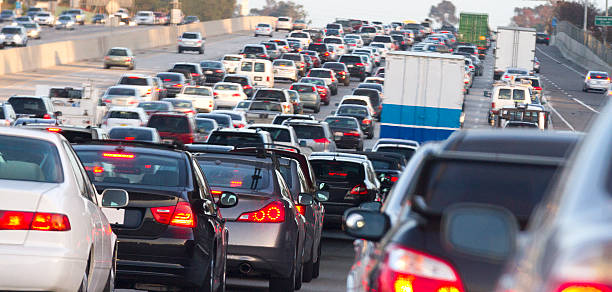car: (1, 125, 115, 292), (84, 149, 219, 283), (195, 153, 299, 284), (308, 158, 377, 230), (284, 118, 336, 160), (10, 94, 54, 128), (337, 102, 374, 137), (492, 85, 529, 120), (325, 115, 358, 151), (251, 89, 288, 116), (122, 73, 158, 100), (291, 83, 321, 113), (178, 88, 212, 114), (214, 83, 245, 111), (308, 68, 338, 90), (103, 46, 131, 69), (160, 73, 187, 96), (356, 88, 379, 115), (326, 62, 350, 86), (1, 25, 26, 48), (583, 70, 609, 90), (180, 30, 200, 54), (34, 10, 54, 29), (135, 10, 156, 25), (273, 15, 291, 32), (305, 25, 324, 40), (56, 17, 74, 29), (360, 25, 374, 40), (255, 23, 269, 37)
truck: (382, 51, 465, 161), (495, 26, 535, 87), (459, 11, 487, 59)
